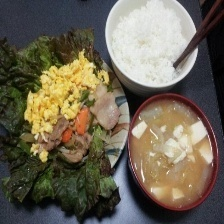rice: (106, 1, 203, 87)
